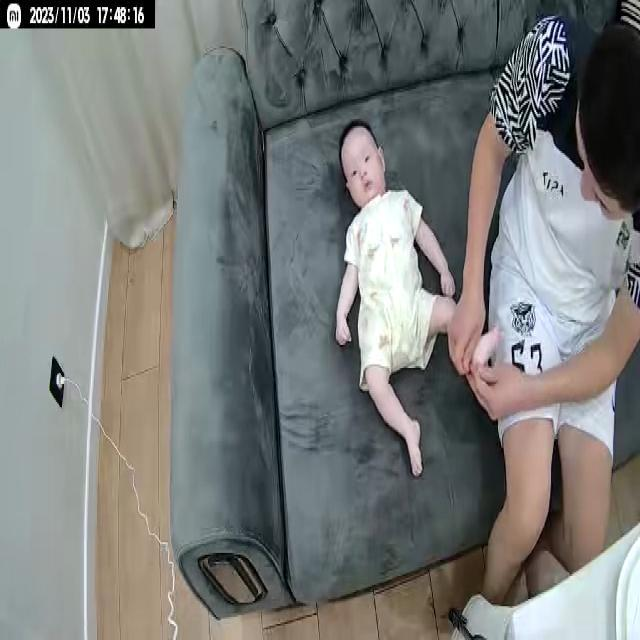baby: (334, 119, 503, 488)
